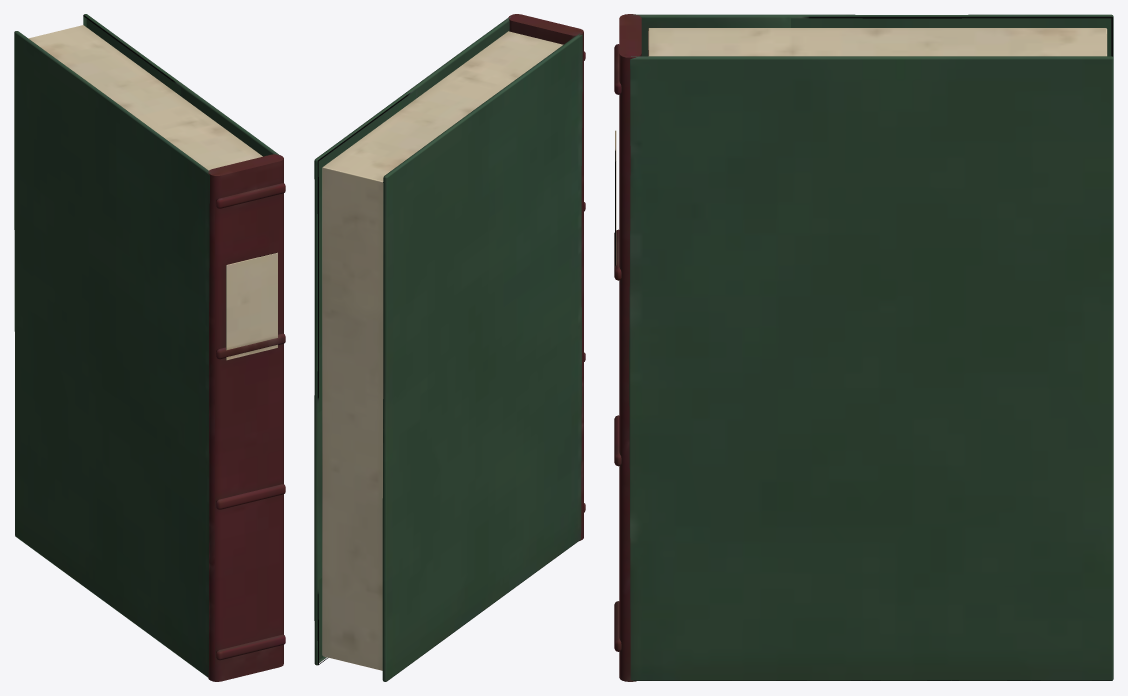
Rendered from ledger-a.glb.
The picture shows the model from 3 angles, left to right: view 1: azimuth 30°, elevation 25°; view 2: azimuth 150°, elevation 25°; view 3: azimuth 270°, elevation 25°; orthographic projection. The views are drawn at different scales.
Visible parts, largest first — view 1: ledger; view 2: ledger; view 3: ledger.
Boxes of the visible parts, x1,y1,x2,y2 form: ledger: [14, 14, 285, 681]; ledger: [314, 14, 585, 681]; ledger: [614, 14, 1113, 681].
Bounding box in the file's own units: 0.0566 × 0.372 × 0.2697.
Materials: 1 (1 with a texture image).
